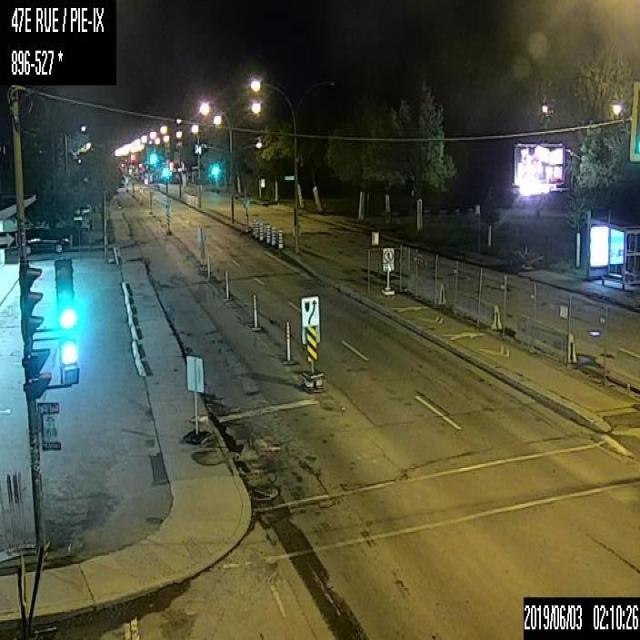construction: (285, 320, 290, 361), (252, 292, 257, 328), (224, 269, 228, 299), (205, 252, 210, 276), (270, 225, 276, 244), (277, 229, 282, 251), (252, 219, 258, 237), (264, 224, 269, 243), (257, 224, 262, 241), (148, 192, 152, 212)
vehicle: (23, 228, 70, 254), (74, 204, 92, 228)
